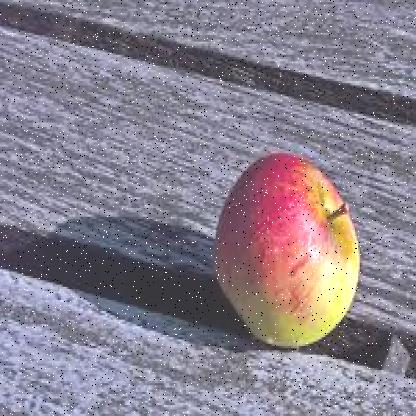apple: (216, 156, 355, 346)
